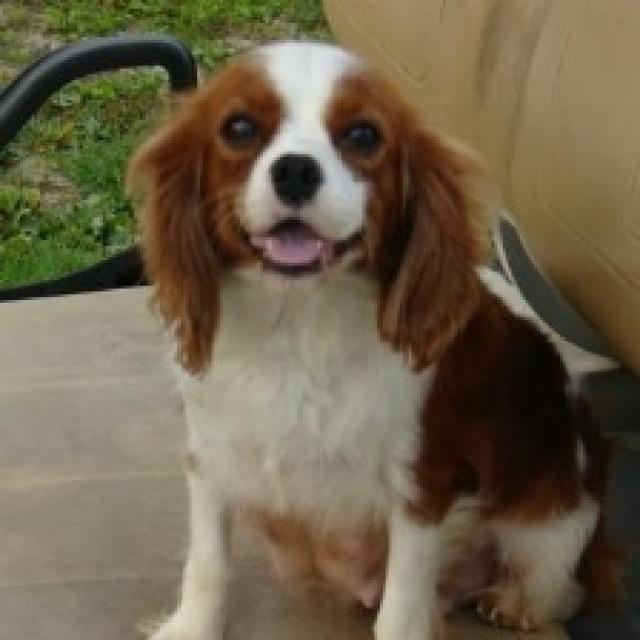cho khoe manh: (146, 40, 591, 640)
